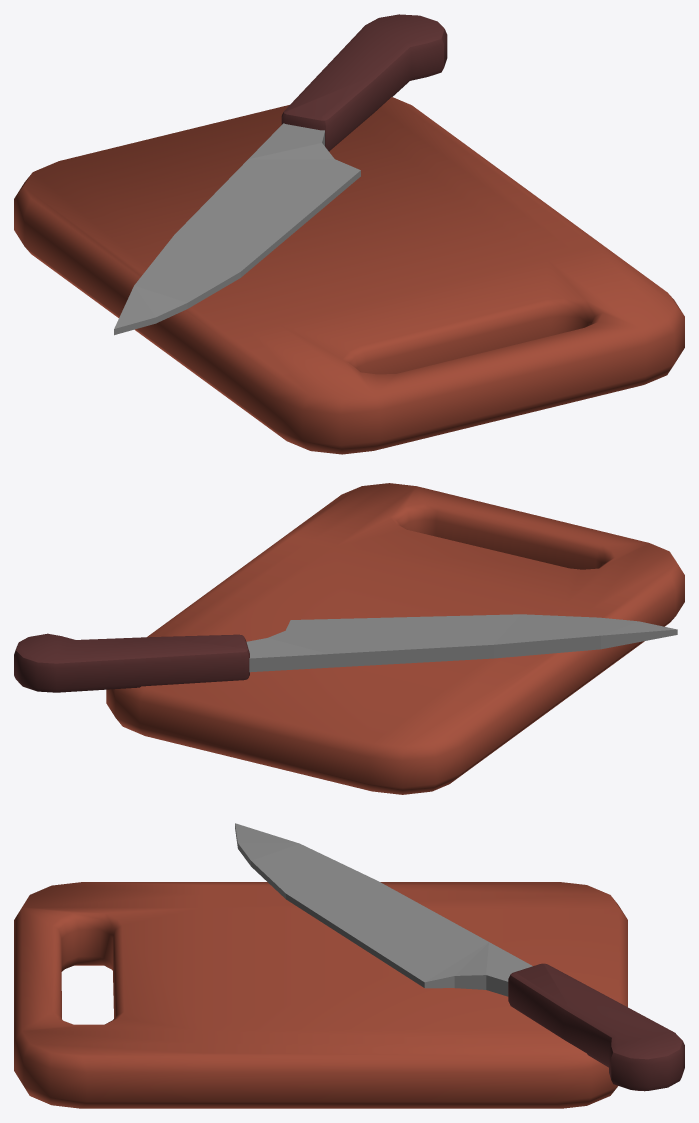
The model's file is cutting board with color.fbx.
The picture shows the model from 3 angles, top to bottom: view 1: azimuth 30°, elevation 25°; view 2: azimuth 150°, elevation 25°; view 3: azimuth 270°, elevation 25°; orthographic projection. The views are drawn at different scales.
Parts seen in each view (by area): view 1: cutting board, blade, handle; view 2: cutting board, blade, handle; view 3: cutting board, blade, handle.
Part boxes in pixels (x1=…): cutting board: x1=14, y1=97, x2=684, y2=454; blade: x1=114, y1=123, x2=360, y2=335; handle: x1=281, y1=14, x2=447, y2=151; cutting board: x1=106, y1=483, x2=684, y2=794; blade: x1=246, y1=614, x2=677, y2=672; handle: x1=14, y1=633, x2=249, y2=692; cutting board: x1=14, y1=882, x2=627, y2=1108; blade: x1=235, y1=823, x2=532, y2=996; handle: x1=508, y1=963, x2=684, y2=1091.
Bounding box in the file's own units: 81.53 × 12.85 × 92.61.
